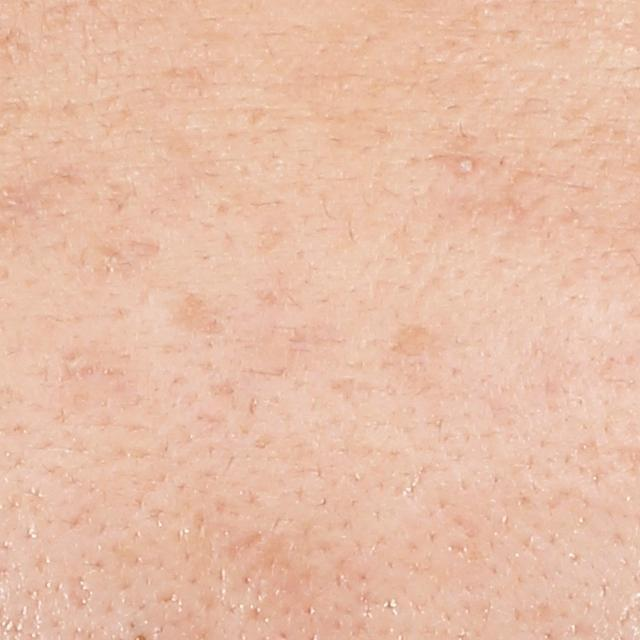atrophic_scar: (161, 291, 240, 352), (384, 319, 463, 364)
